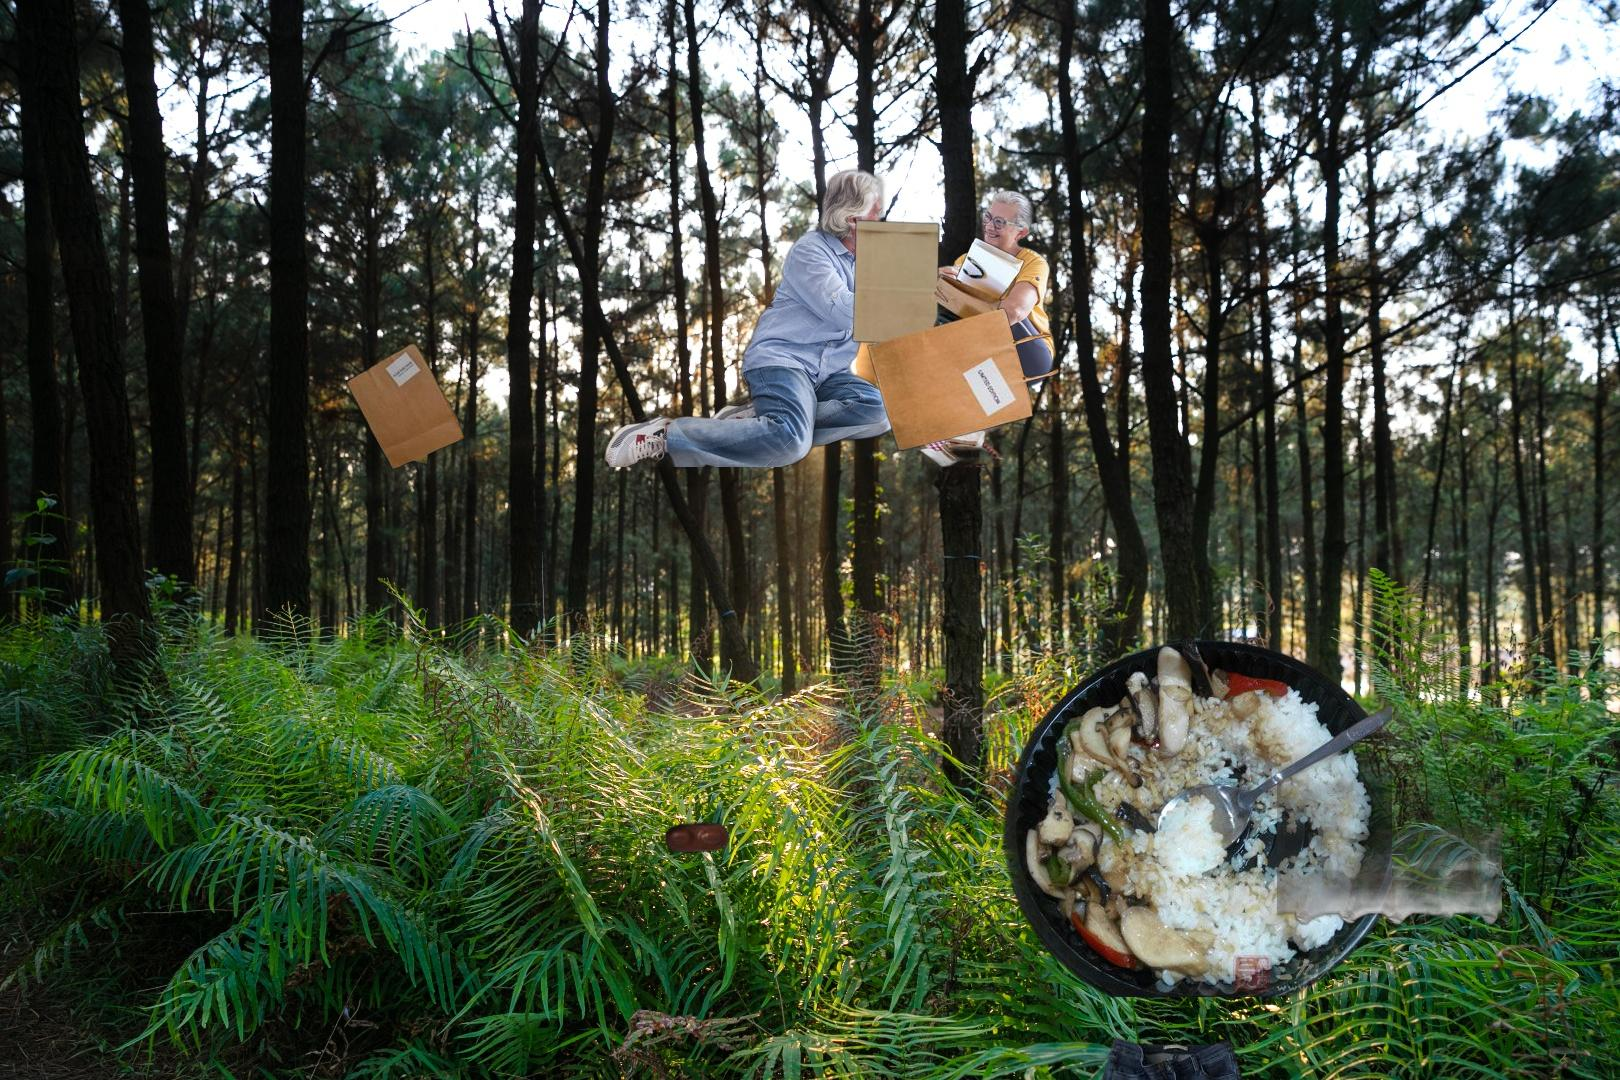biological: (999, 633, 1392, 997)
clothes: (1062, 1033, 1289, 1080)
metal-cans: (1419, 636, 1620, 742)
paper-bag: (851, 217, 1060, 452), (345, 341, 524, 547)
trash: (662, 820, 732, 856)
trashbox-cardboard: (598, 162, 1126, 466), (1276, 734, 1502, 959)
